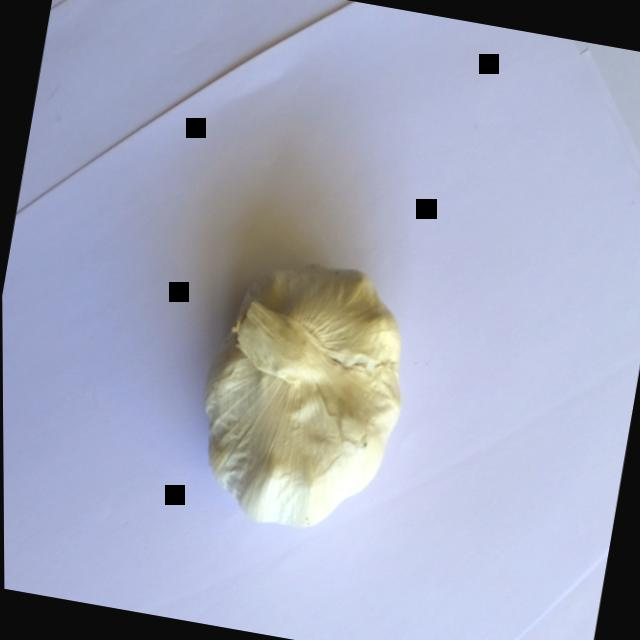Garlic: (153, 220, 454, 592)
